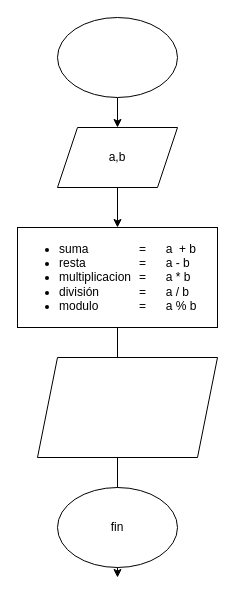
Some shapes in this 235 by 603 pixel diagram are drawn without their labels. The box of each missing label's shape, as (x1, y1, x2, y2) in pixels:
Inicio: (56, 16, 178, 98)
mostrar suma mostrar resta mostar multiplicacion mostrar division mostrar módulo: (36, 356, 218, 458)
